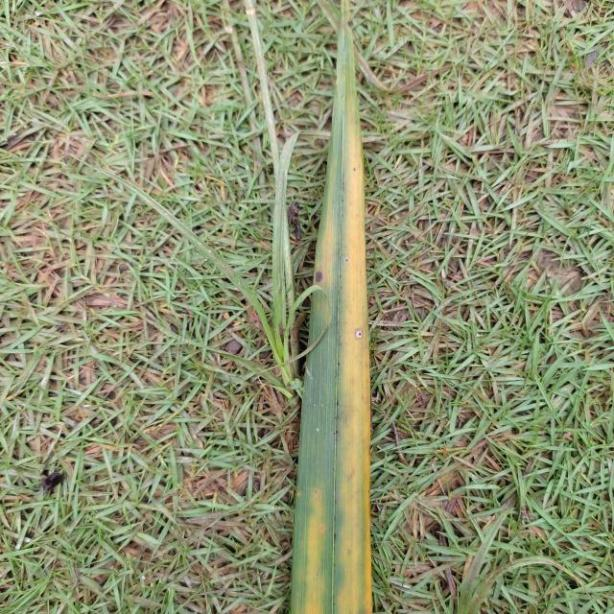Megnesium: (291, 0, 376, 614)
